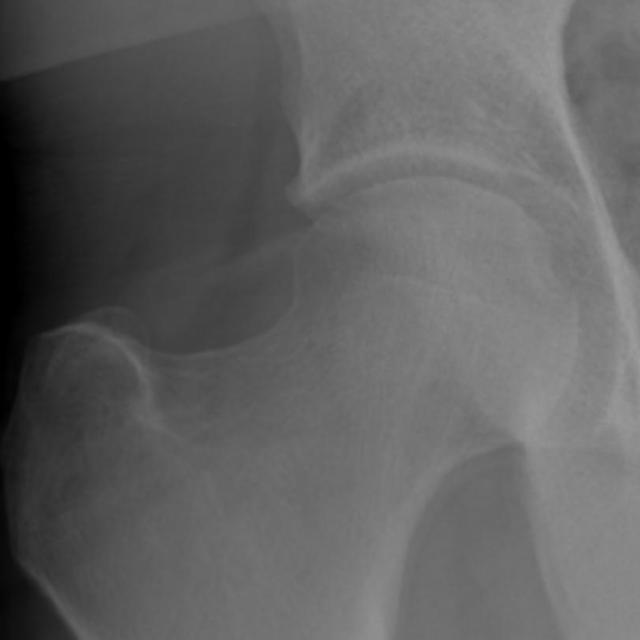Fitted_femural_head: (291, 178, 432, 291)
